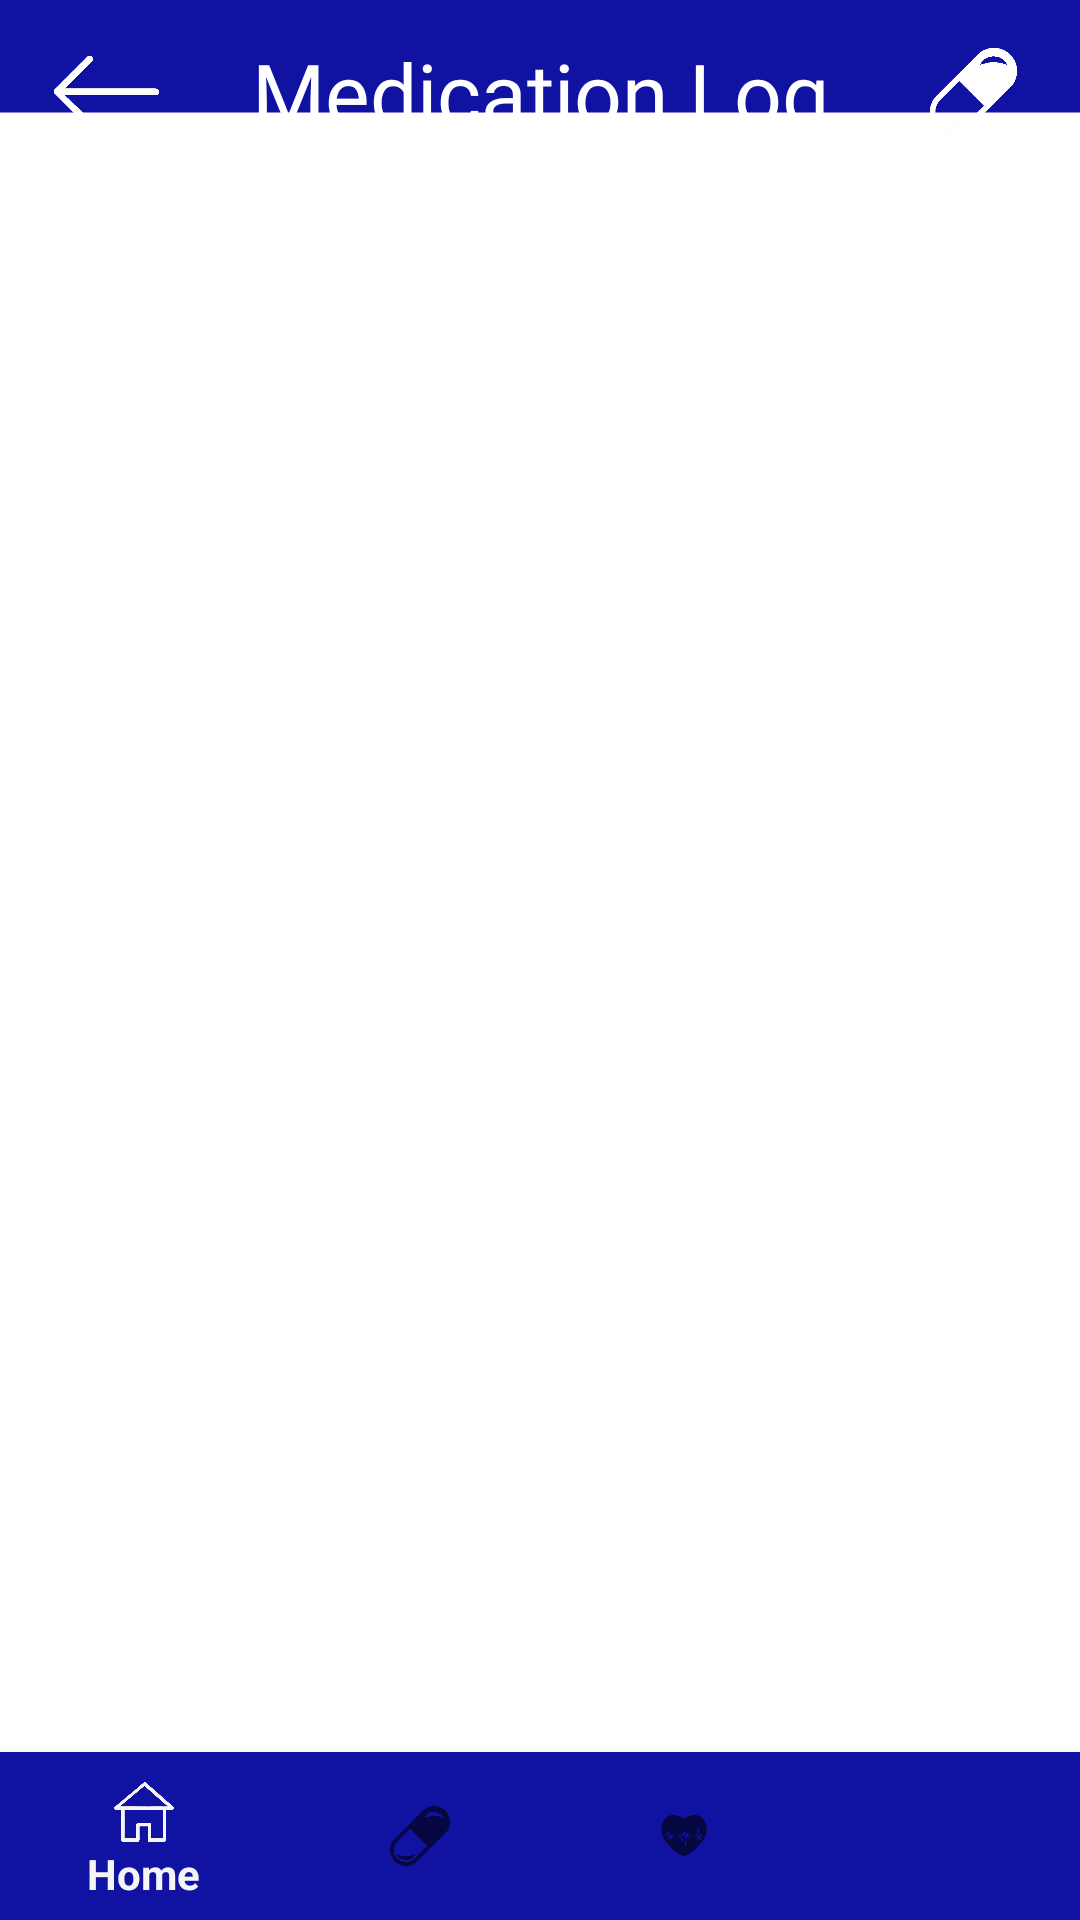

Point at icon controls on the screen. Image size 1080 × 1920, points as (x,y).
back: (106,91)
medlog: (973,91)
